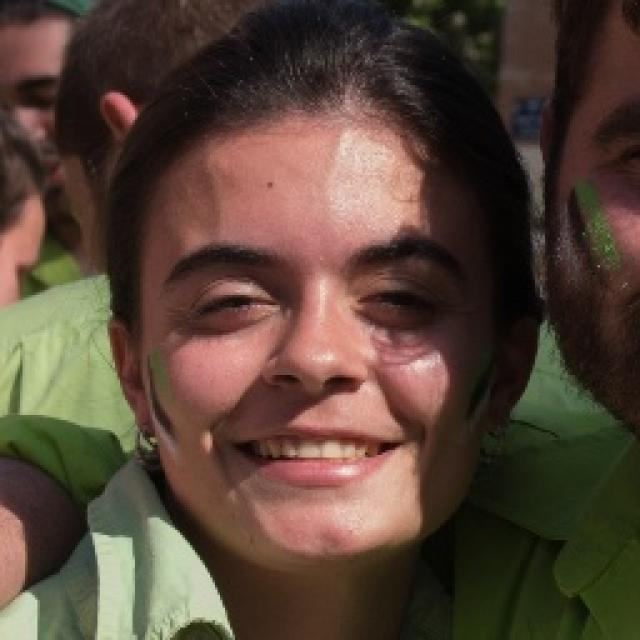earlobe: (481, 394, 512, 436), (131, 401, 156, 437)
eye: (364, 282, 438, 316), (195, 290, 277, 318)
nose: (262, 376, 370, 417)
wholeear: (482, 305, 540, 435), (107, 318, 156, 437)
